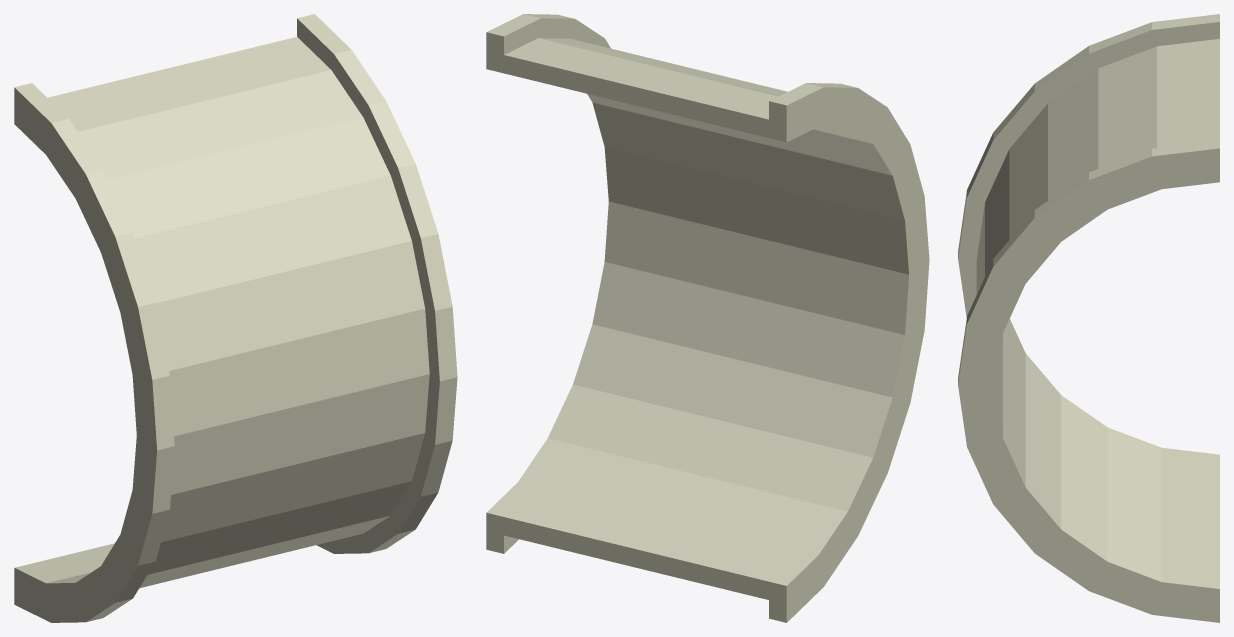
Rendered from section_028.obj.
3 views of the same model, side by side, from view 1: azimuth 30°, elevation 25°; view 2: azimuth 150°, elevation 25°; view 3: azimuth 270°, elevation 25° (orthographic). The views are drawn at different scales.
Bounding box in the file's own units: 17.01 × 28 × 14.
